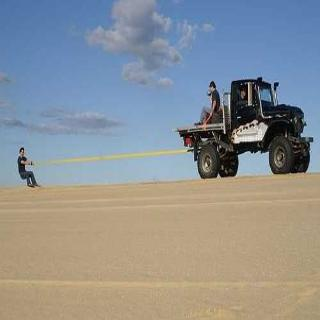Towing_truck: (172, 74, 314, 178)
